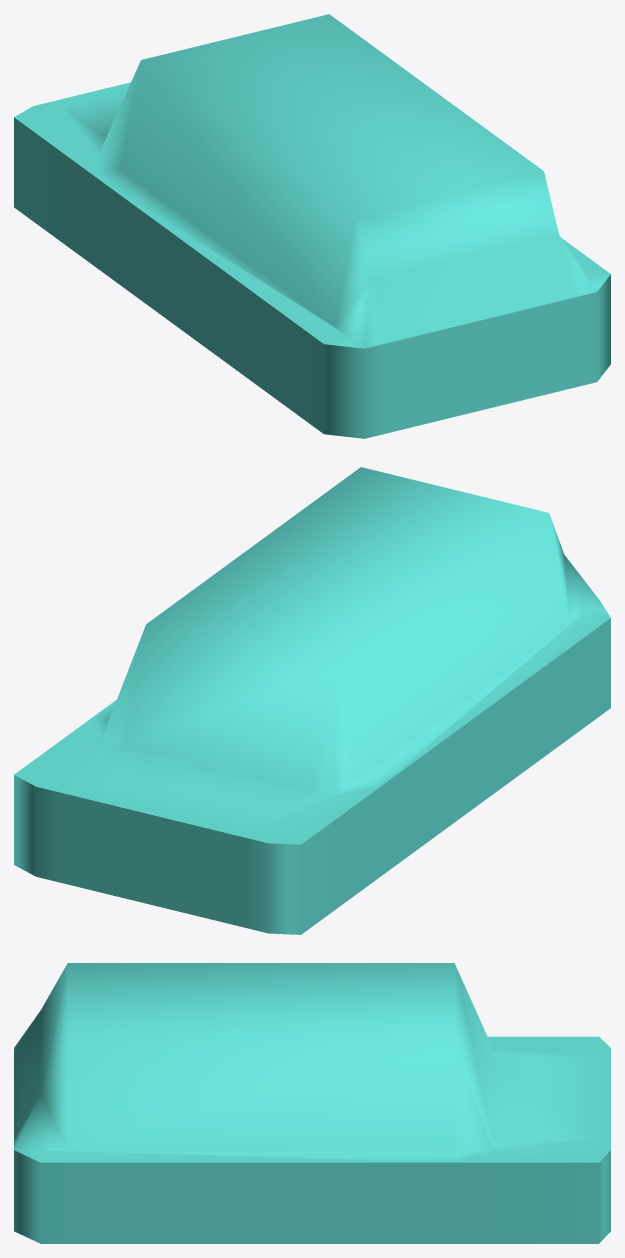
Rendered from testcar2.fbx.
3 views of the same model, one above another, from view 1: azimuth 30°, elevation 25°; view 2: azimuth 150°, elevation 25°; view 3: azimuth 270°, elevation 25° (orthographic). The views are drawn at different scales.
Visible parts, largest first — view 1: pCube1; view 2: pCube1; view 3: pCube1.
Part boxes in pixels (left/top/right/bottom): pCube1: left=14, top=14, right=610, bottom=438; pCube1: left=14, top=467, right=610, bottom=934; pCube1: left=14, top=963, right=610, bottom=1243.
Bounding box in the file's own units: 0.02 × 0.013 × 0.04.
